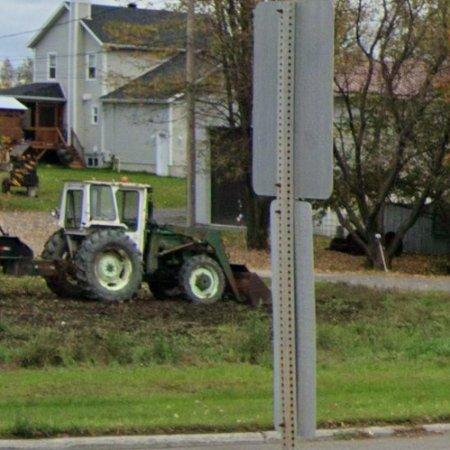tractors: (0, 183, 269, 305)
